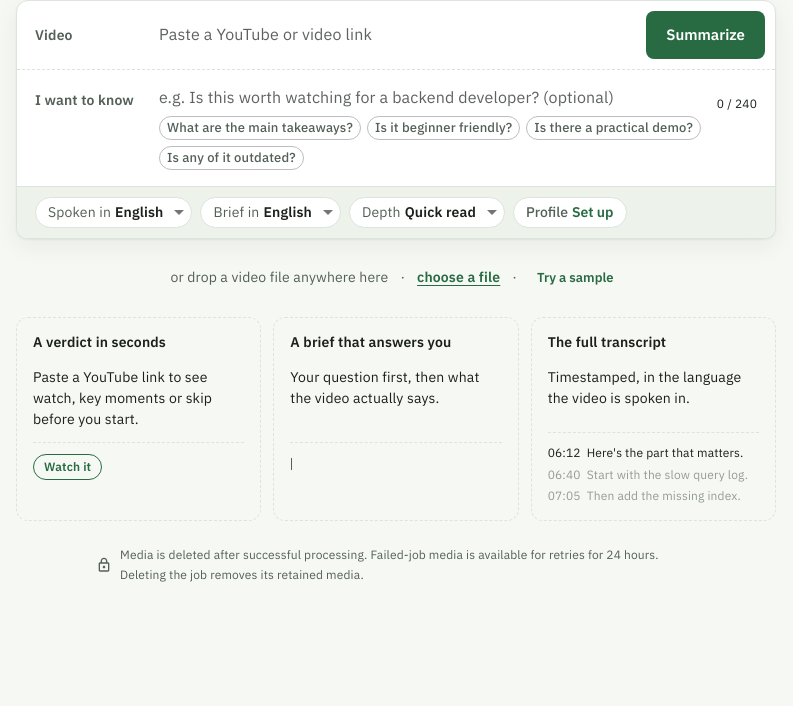
Test case: Summary workflow › previews a pasted link and follows its spoken language for the quick check
The width and height of the screenshot is (793, 706).
In the field labelled "Video": {"x": 397, "y": 35} [159,19,634,51], type "https://youtu.be/-xbzGngfQEw"
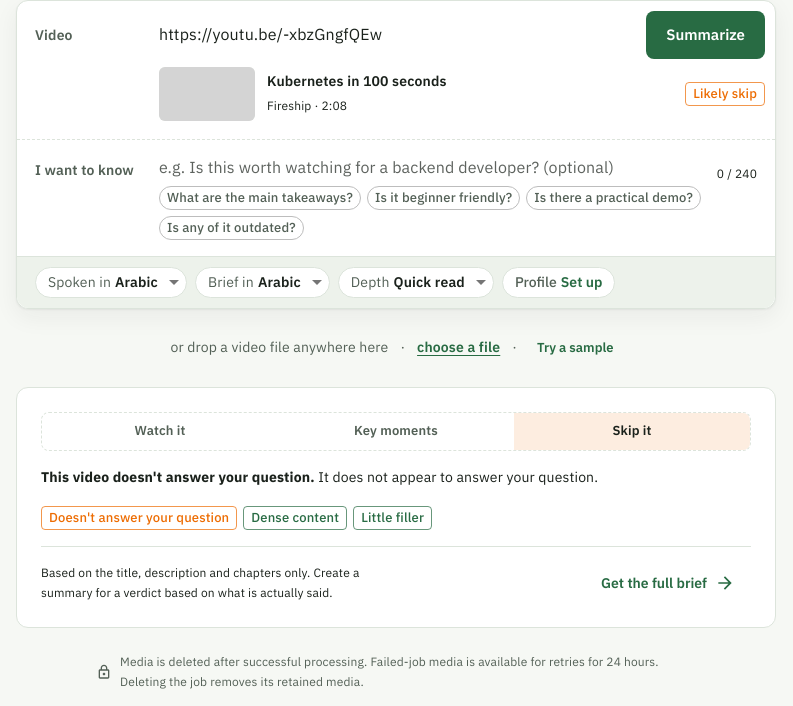
Expected: the element named "Video preview" shows "Kubernetes in 100 seconds", [267,72,447,90]
Expected: the element named "Video preview" shows "Fireship · 2:08", [267,98,347,113]
Expected: the dropdown labelled "Spoken in" shows "Arabic", [48,273,158,291]
